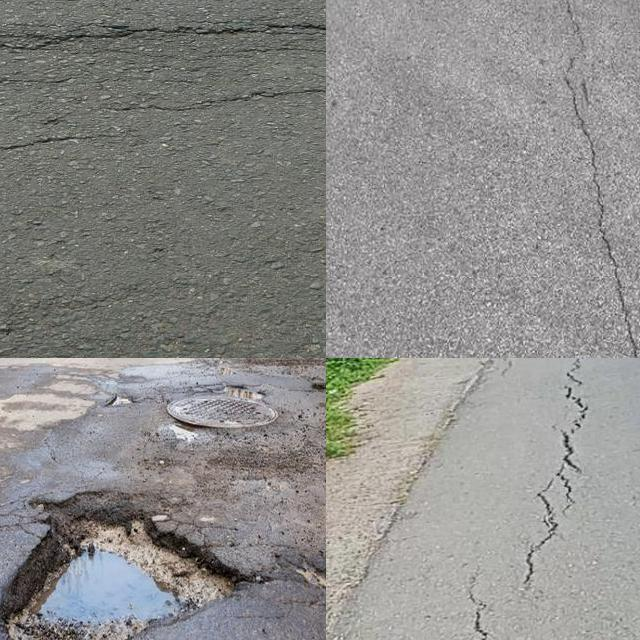Lubang: (1, 497, 243, 640), (172, 384, 282, 435), (282, 557, 326, 592)
Melintang: (0, 5, 326, 57), (94, 81, 326, 127)
Memanjang: (536, 0, 640, 358), (507, 358, 595, 610), (456, 580, 503, 640)
